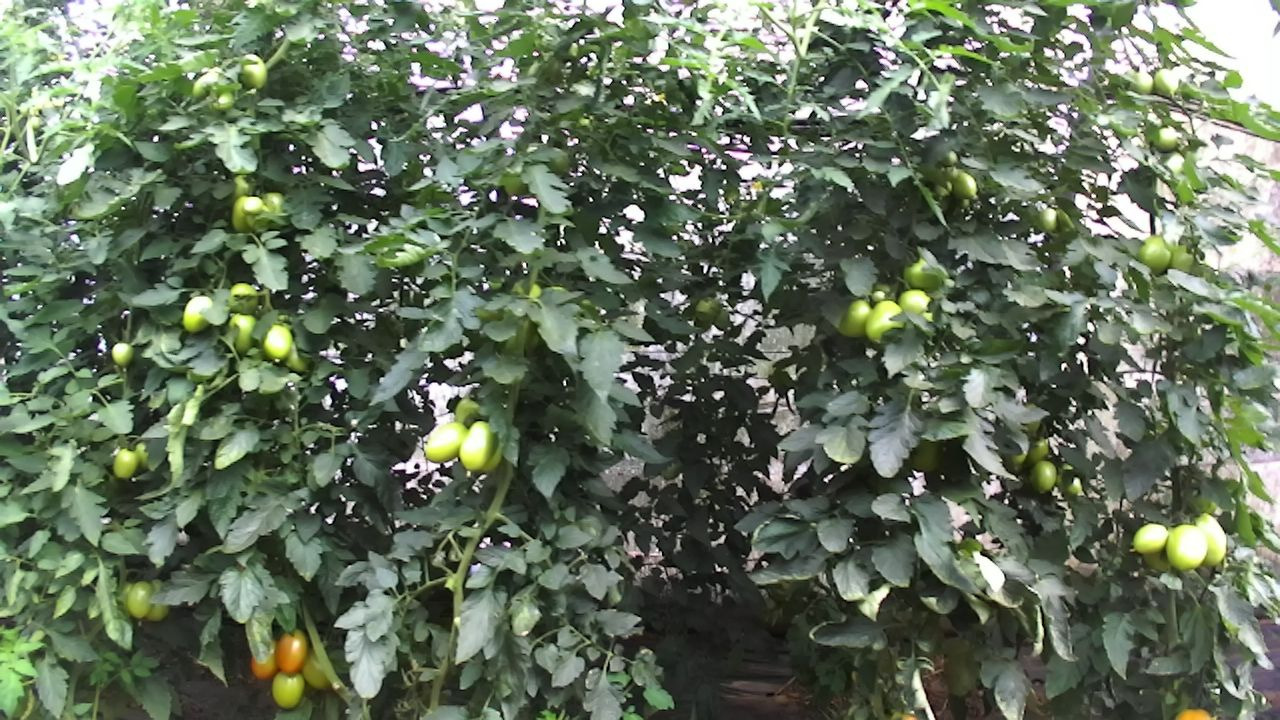tomato: (860, 295, 909, 348), (1162, 520, 1210, 573), (456, 416, 499, 473), (422, 417, 470, 465), (271, 622, 310, 681), (1191, 510, 1229, 569), (266, 665, 311, 714), (1133, 233, 1174, 279), (124, 574, 157, 622), (178, 293, 215, 335), (258, 322, 293, 366), (1130, 520, 1169, 556), (236, 51, 270, 91), (1027, 457, 1058, 496), (949, 166, 981, 203), (107, 446, 139, 481), (236, 192, 265, 218), (110, 339, 134, 369)
